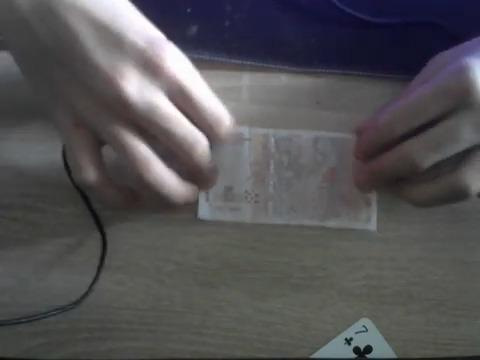5leva: (198, 126, 378, 232)
